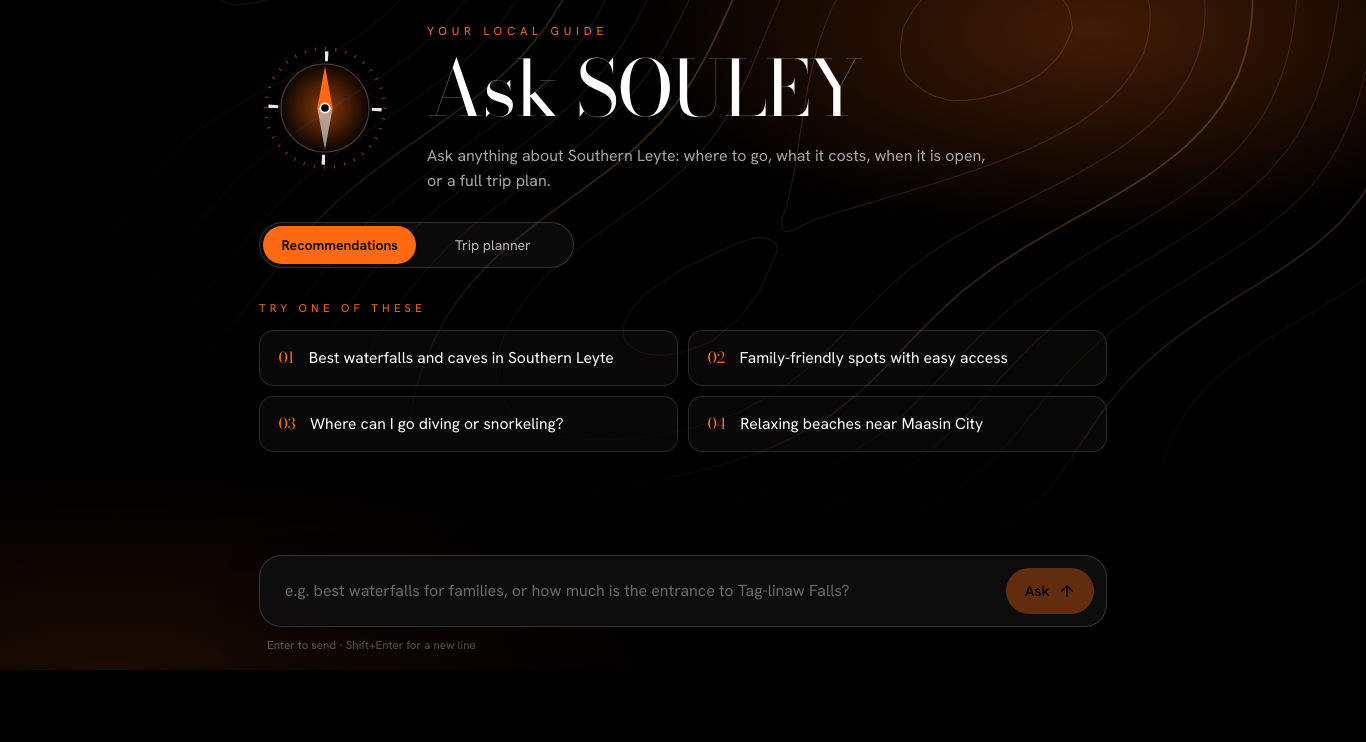
Test: Ask page › clicking an idea asks it straight away and shows the answer with spot cards
What coordinates should you click on to do the following:
click the text "Family-friendly spots with easy access"
I would click on:
 (874, 358)
Its box is left=740, top=347, right=1008, bottom=369.
(page scrolled)
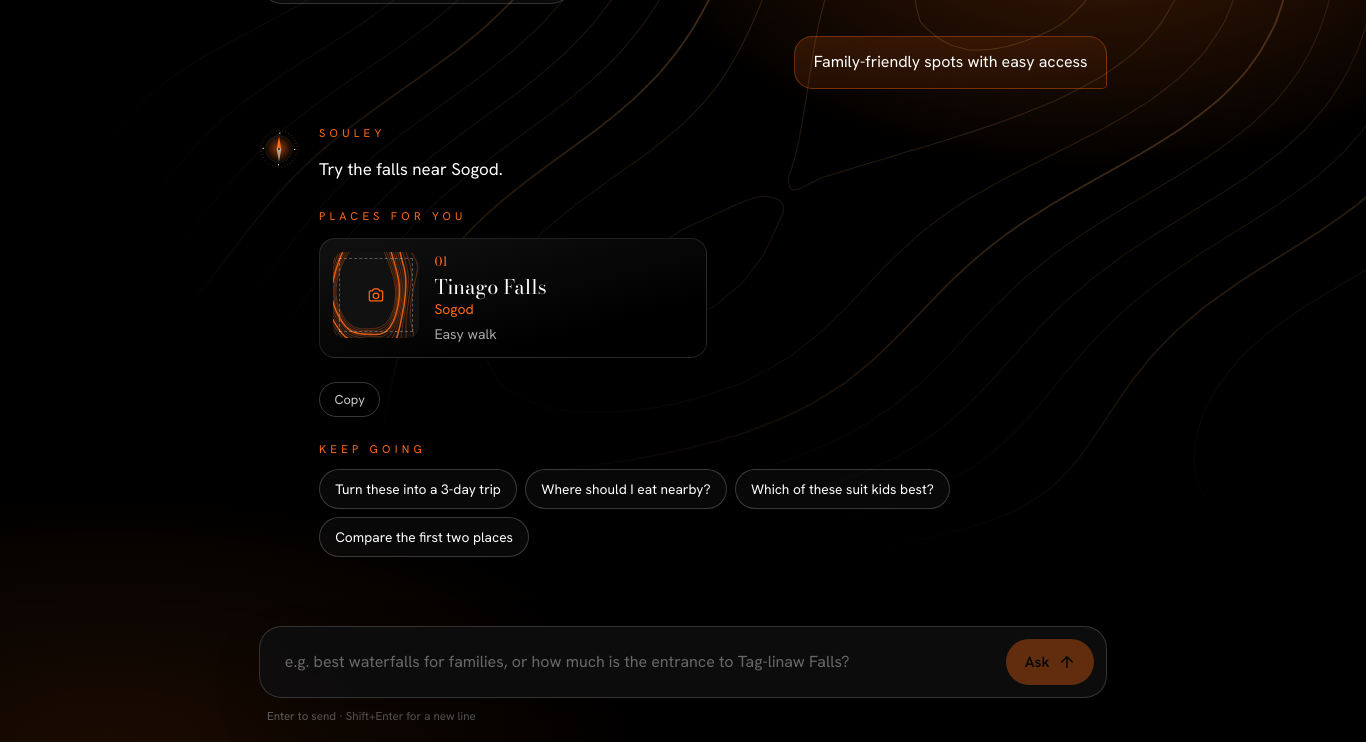
Expected: the text "Try the falls near Sogod." is shown, left=319, top=158, right=503, bottom=180
Expected: the button "Best waterfalls and caves in Southern Leyte" is gone
